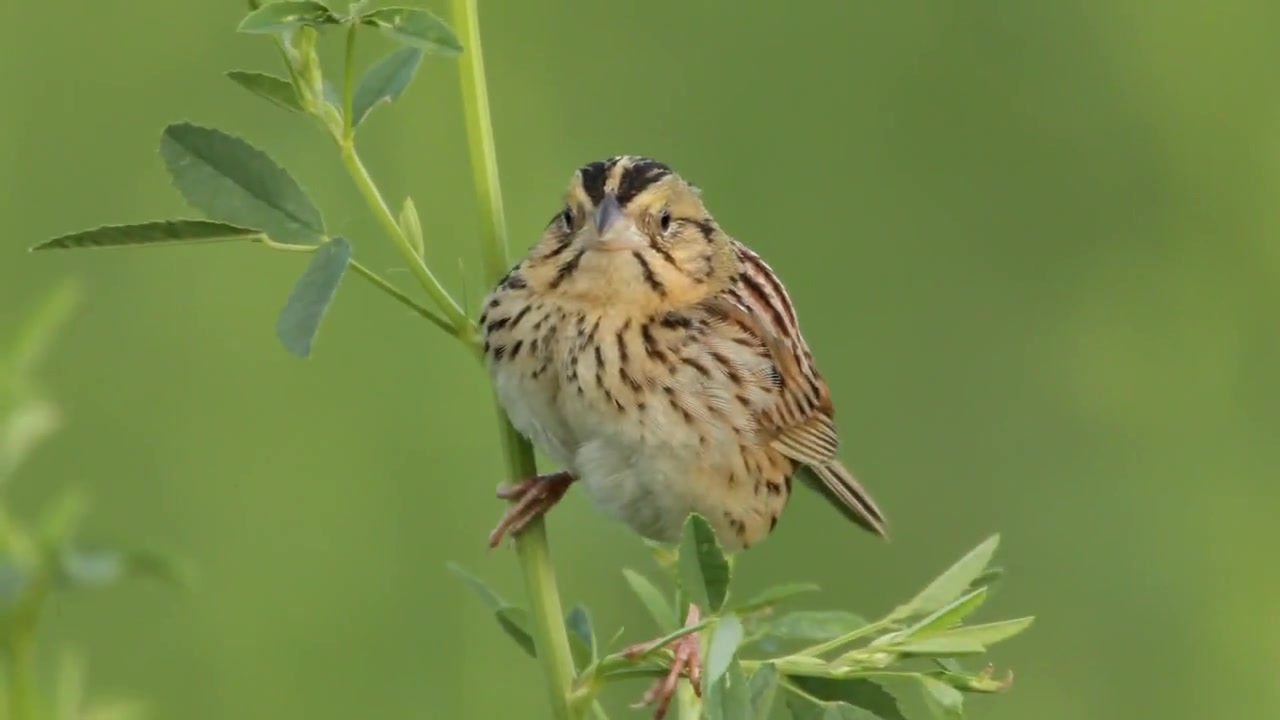bird: (479, 155, 888, 719)
